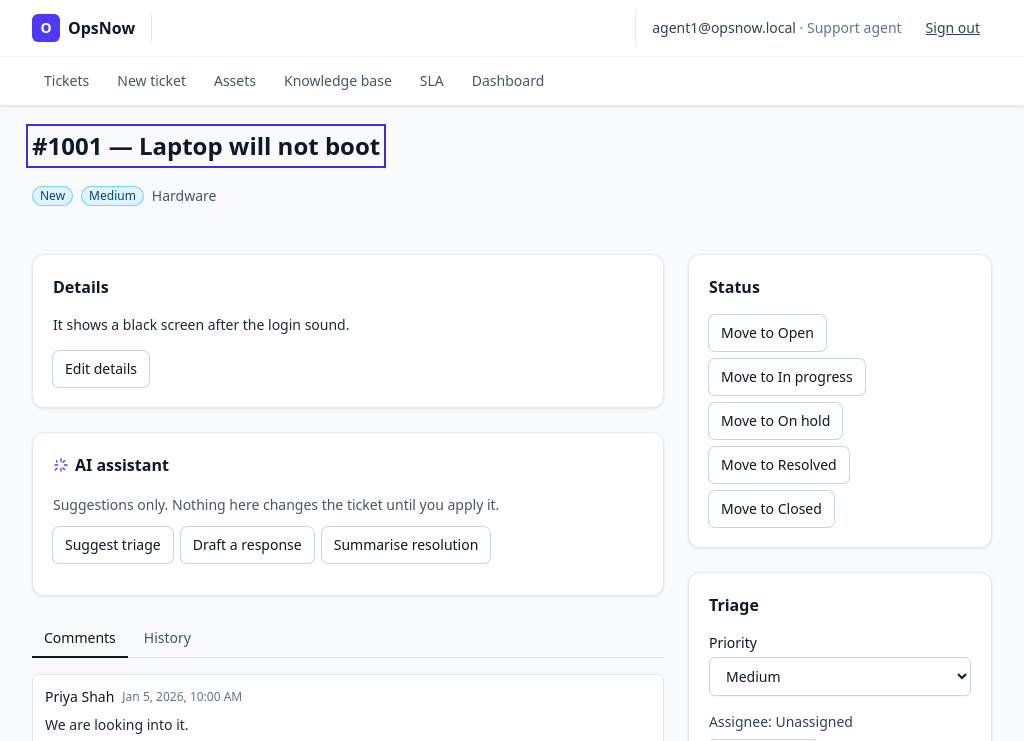
ticket detail — mutations › does not offer to clear a category that is already set
Check: the heading "#1001 — Laptop will not boot" is shown, box x1=32 y1=130 x2=380 y2=162
Click the button "Edit details" at [101, 369], box x1=53 y1=351 x2=149 y2=387
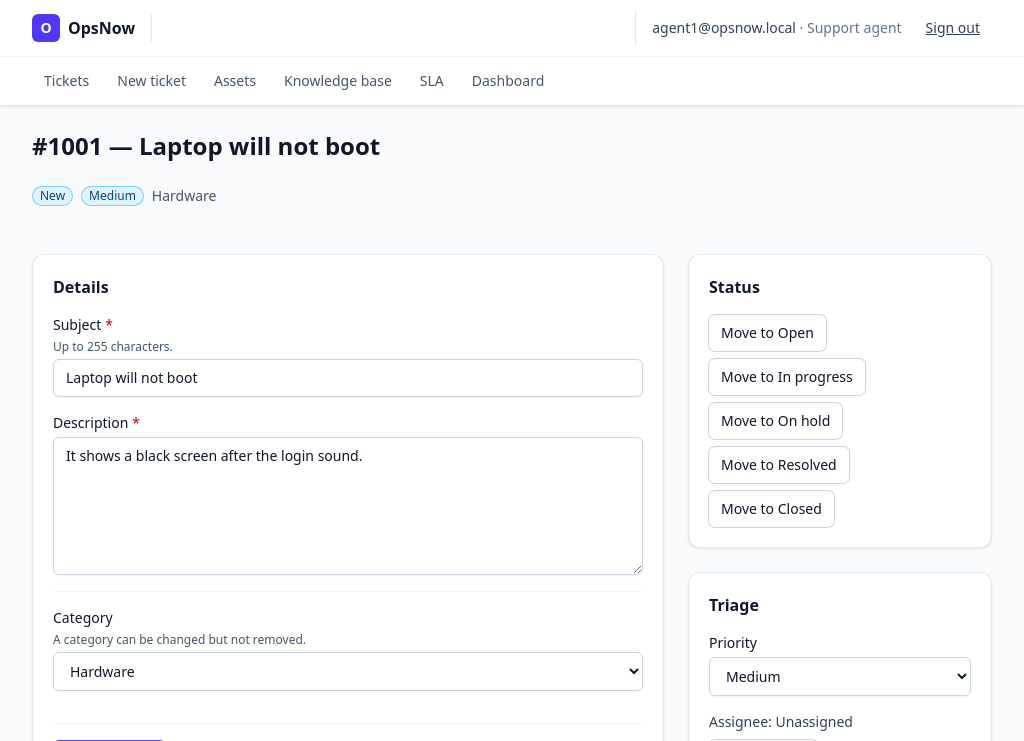
Check: the text "A category can be changed but not removed." is shown, box x1=53 y1=631 x2=306 y2=648
